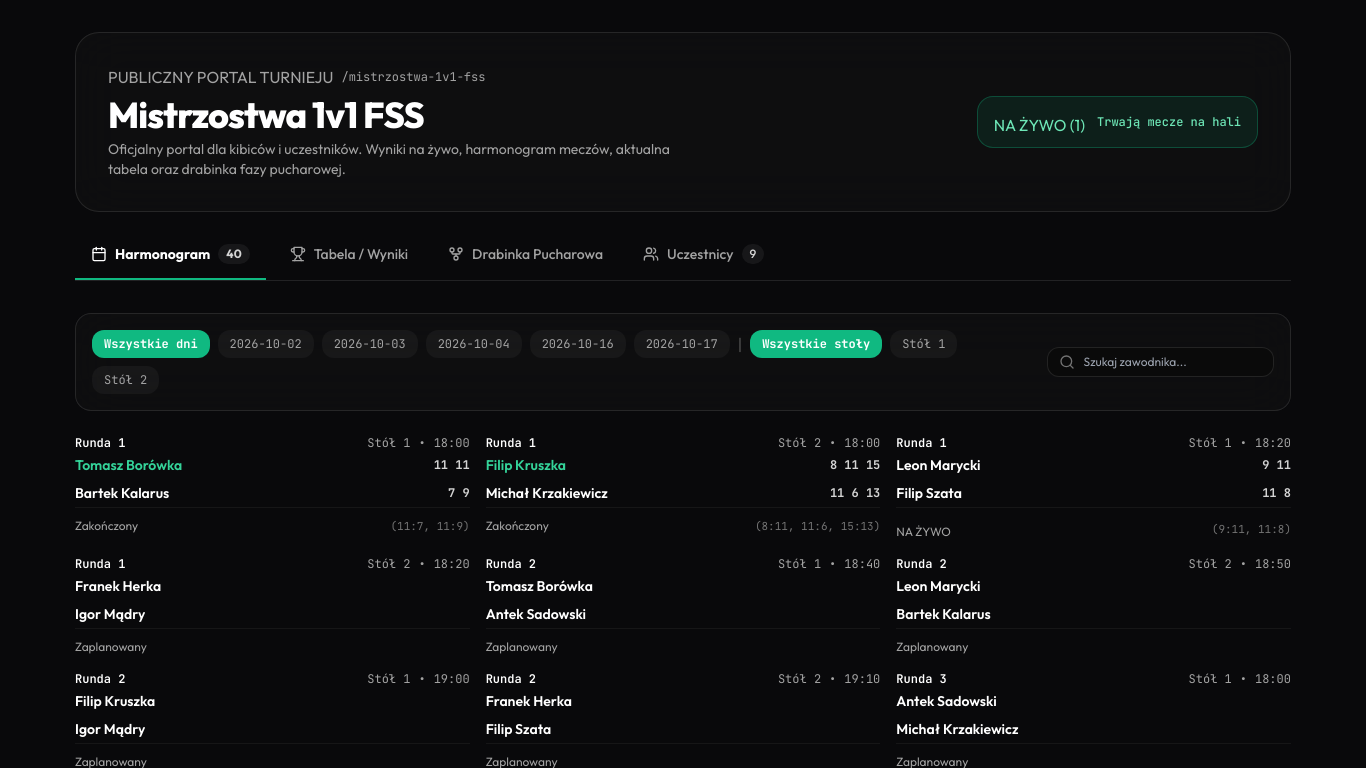
Test: Milestone 4: Public Spectator Portal Suite › 4. Standings table ranks all participants and highlights top 4 playoff spots
// Switch to Standings tab
Click the button "Tabela / Wyniki" at [349, 262], box [274,244,424,280]
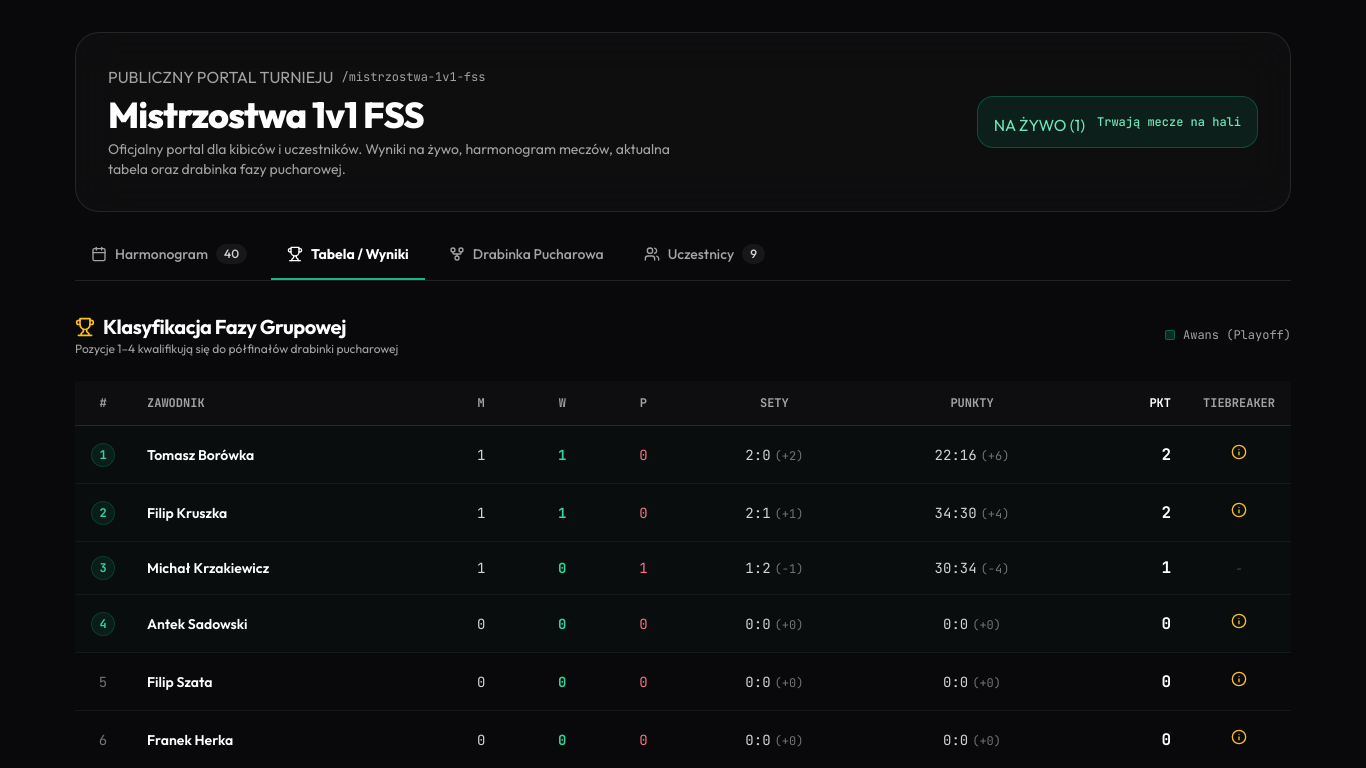
Expected: the text "Antek Sadowski" is shown, [147,614,247,634]
Result: the heading "Klasyfikacja Fazy Grupowej" is shown at [75,314,346,339]
Result: the text "Pozycje 1–4 kwalifikują się" is shown at [75,341,398,356]
